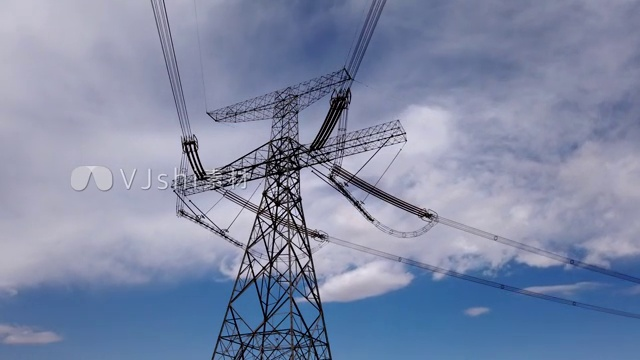tower_body: (173, 65, 407, 360)
tower_foot: (211, 271, 333, 360)
tower_head: (204, 67, 357, 125)
